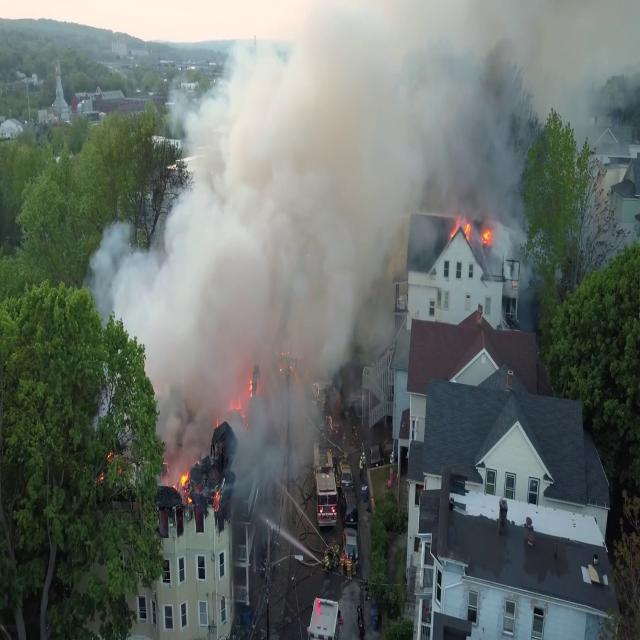smoke: (176, 200, 330, 392)
